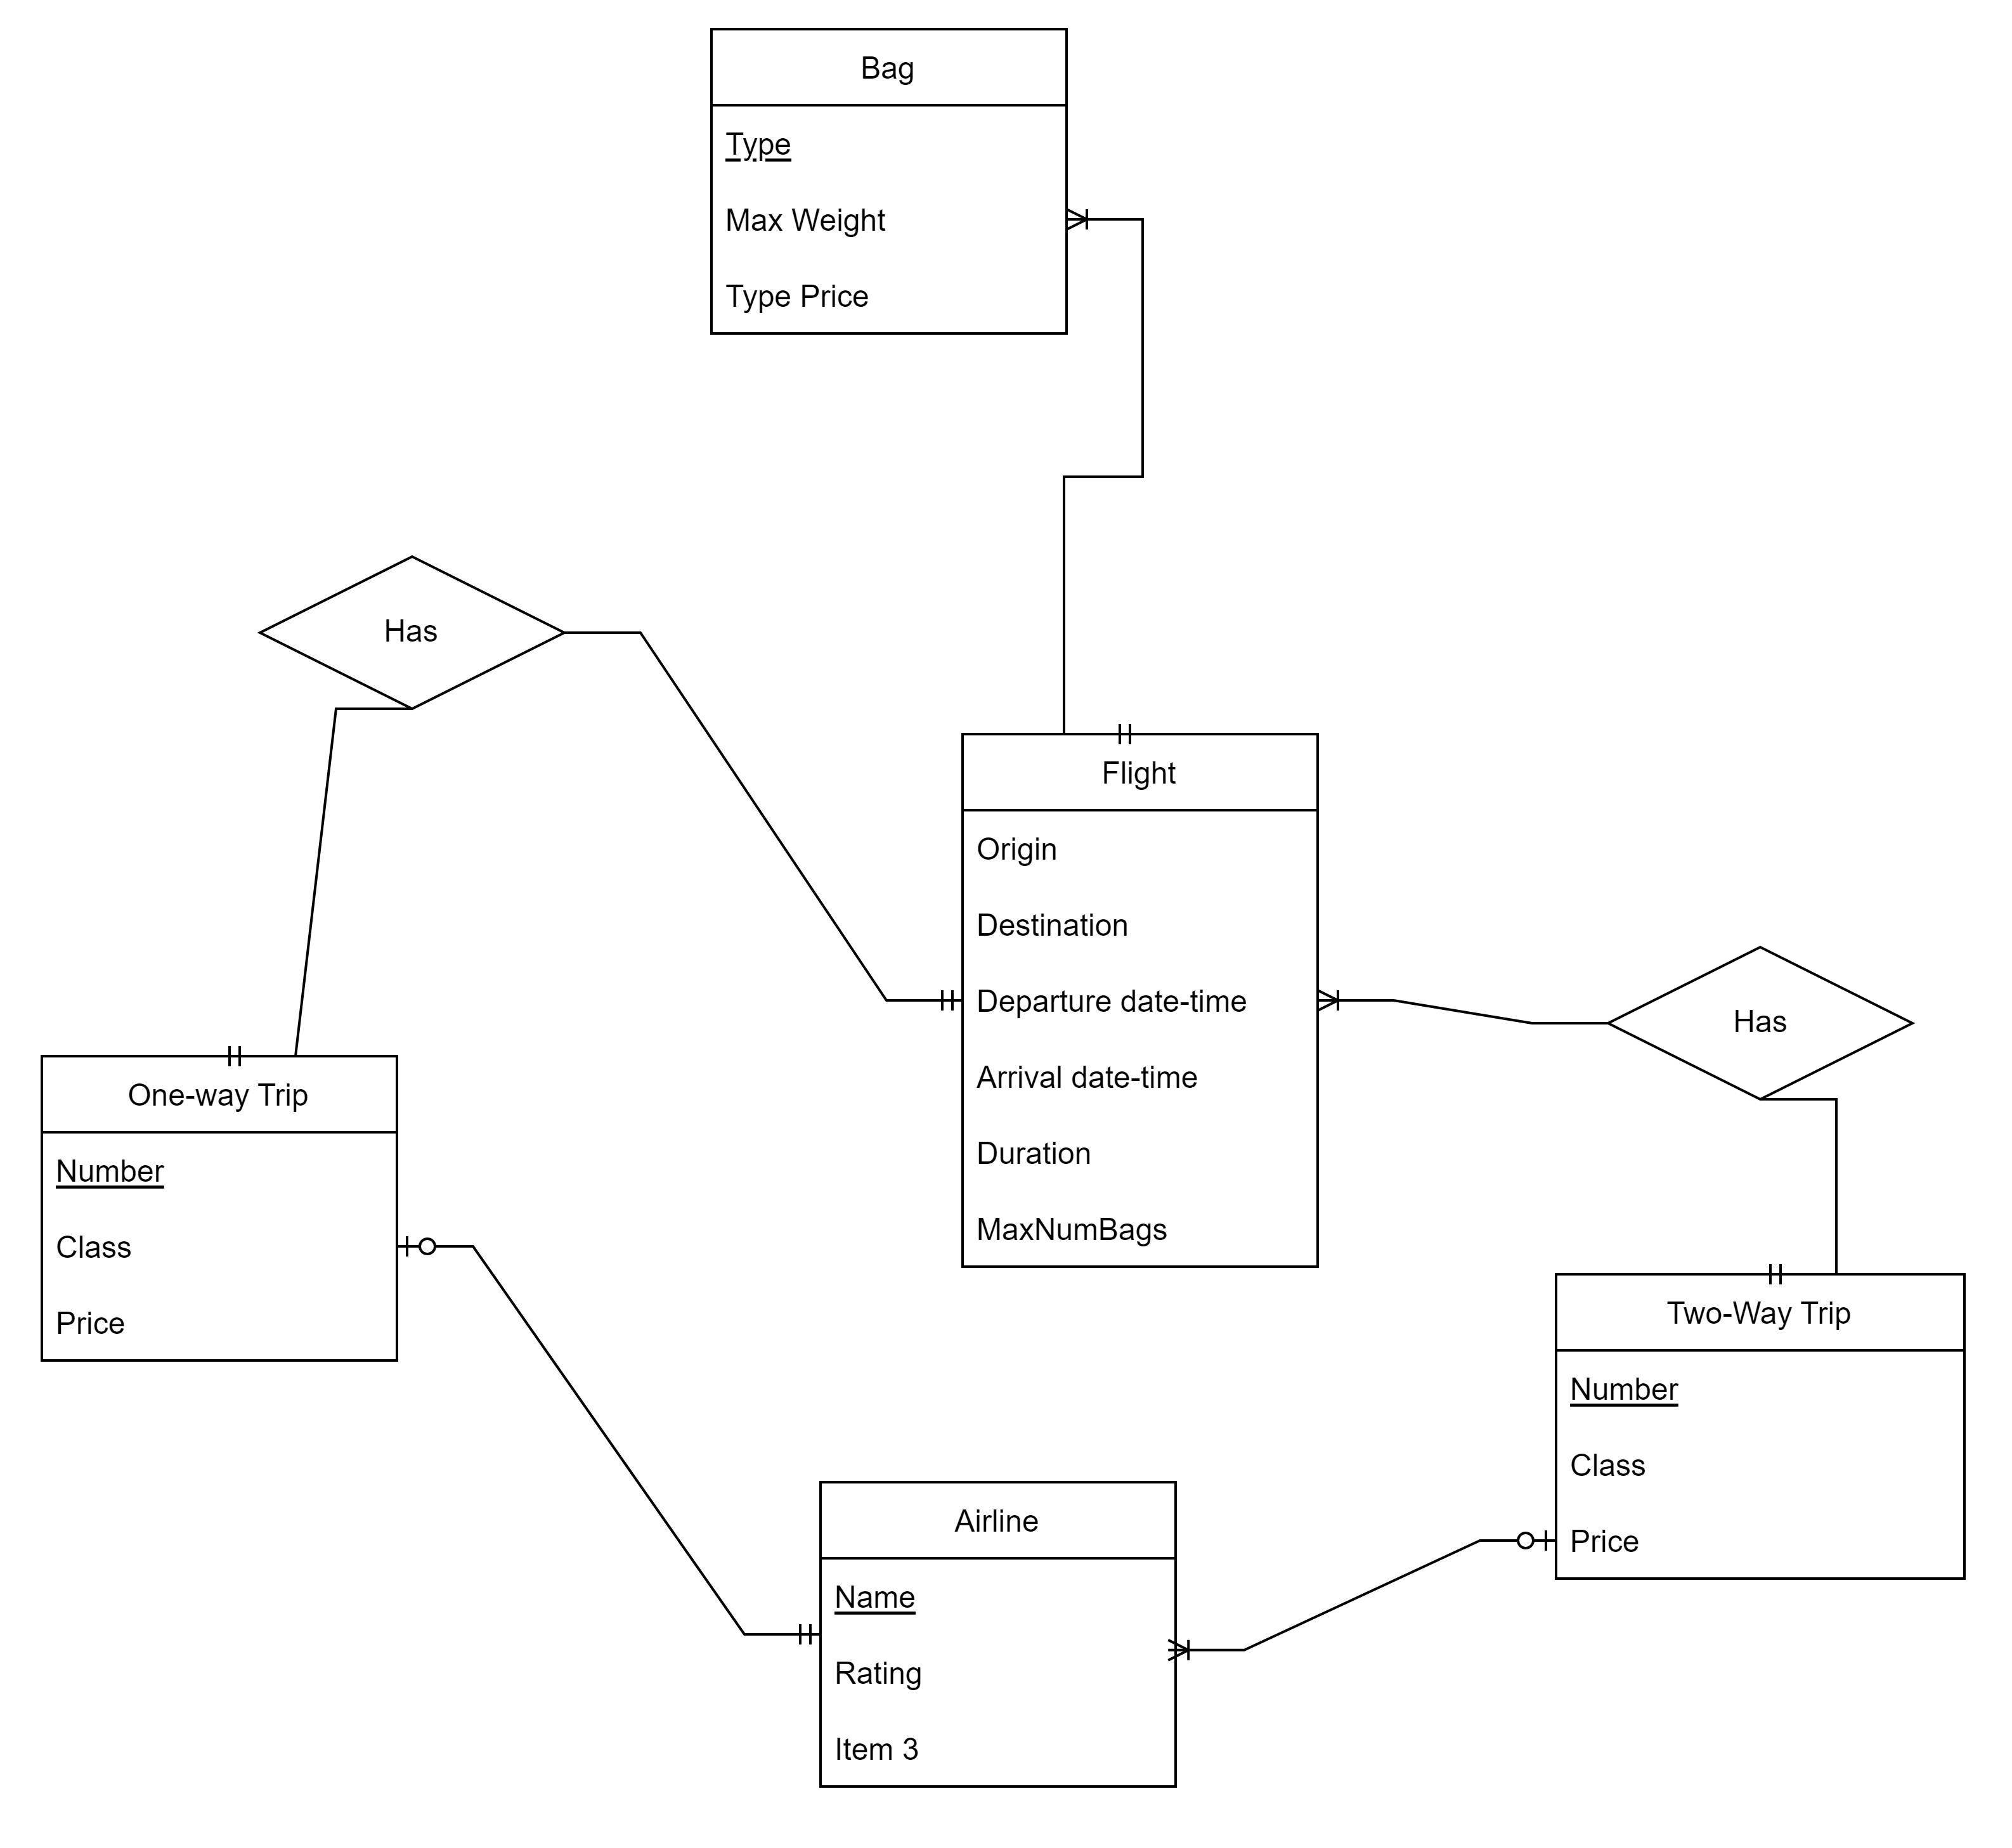entity: (959, 727, 1327, 1273), (1551, 1272, 1970, 1587), (699, 16, 1073, 340), (30, 1049, 403, 1370), (815, 1478, 1183, 1788)
relationship: (1612, 937, 1914, 1104), (265, 554, 559, 713)
